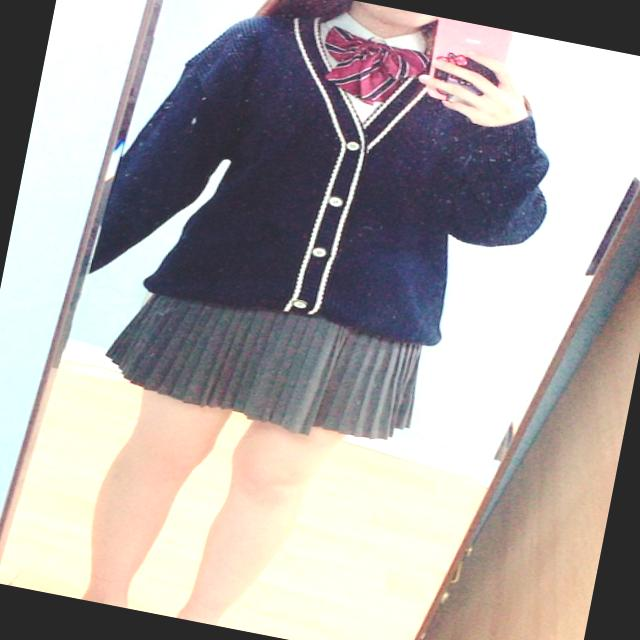cardigan: (89, 0, 575, 366)
skirt: (98, 274, 430, 455)
